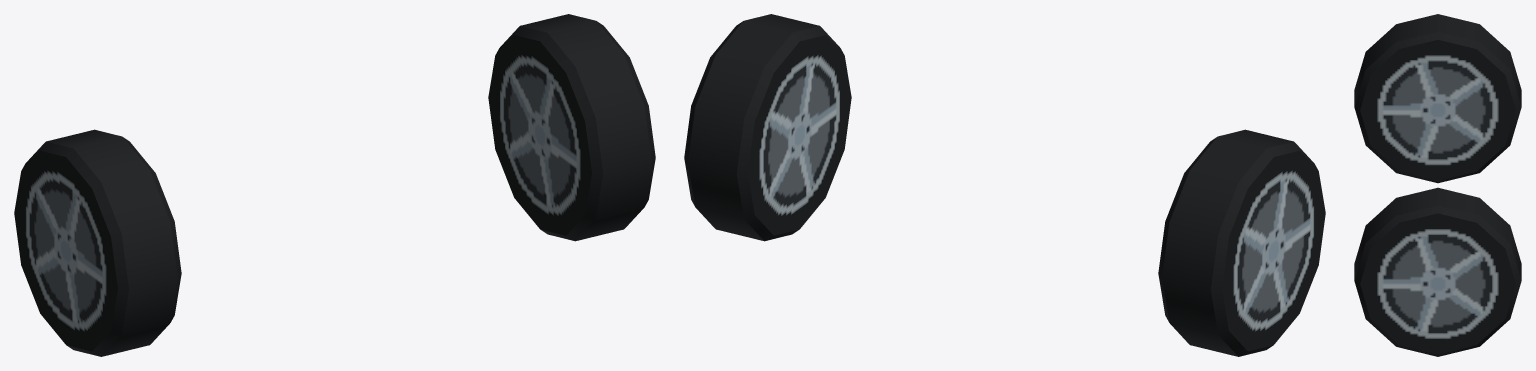
Rendered from coupe_99_wheels_f.obj.
3 views of the same model, side by side, from view 1: azimuth 30°, elevation 25°; view 2: azimuth 150°, elevation 25°; view 3: azimuth 270°, elevation 25° (orthographic). The views are drawn at different scales.
Visible parts, largest first — view 1: coupe_99_wheels_f; view 2: coupe_99_wheels_f; view 3: coupe_99_wheels_f.
Boxes of the visible parts, box(x1,y1,x2,y2) form: coupe_99_wheels_f: box(14, 14, 655, 356); coupe_99_wheels_f: box(684, 14, 1325, 356); coupe_99_wheels_f: box(1354, 14, 1521, 356).
Bounding box in the file's own units: 1.73 × 0.62 × 0.62.
Materials: 1 (1 with a texture image).
